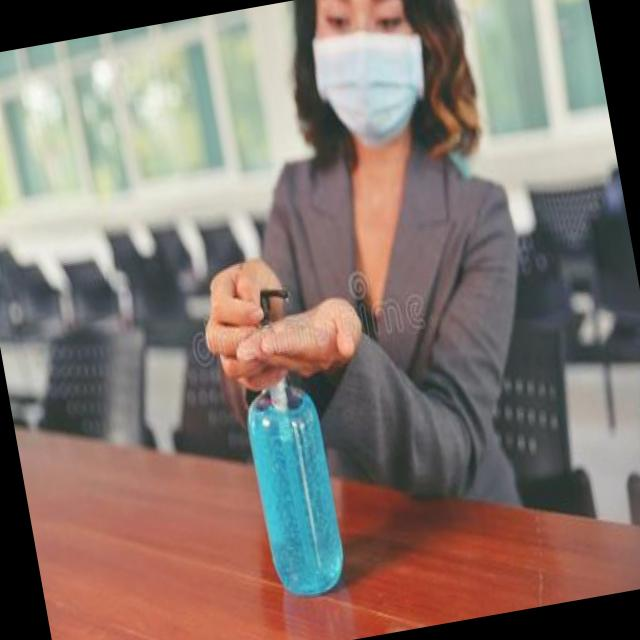sanitizer: (226, 281, 350, 603)
